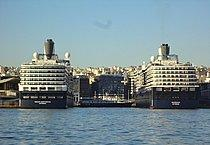Ship: (133, 42, 199, 110), (24, 38, 76, 111)
